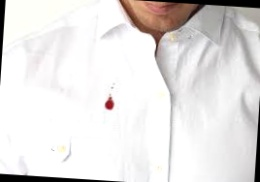blood: (104, 99, 116, 110)
